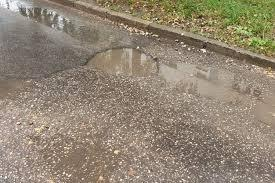pothole: (80, 44, 161, 79)
